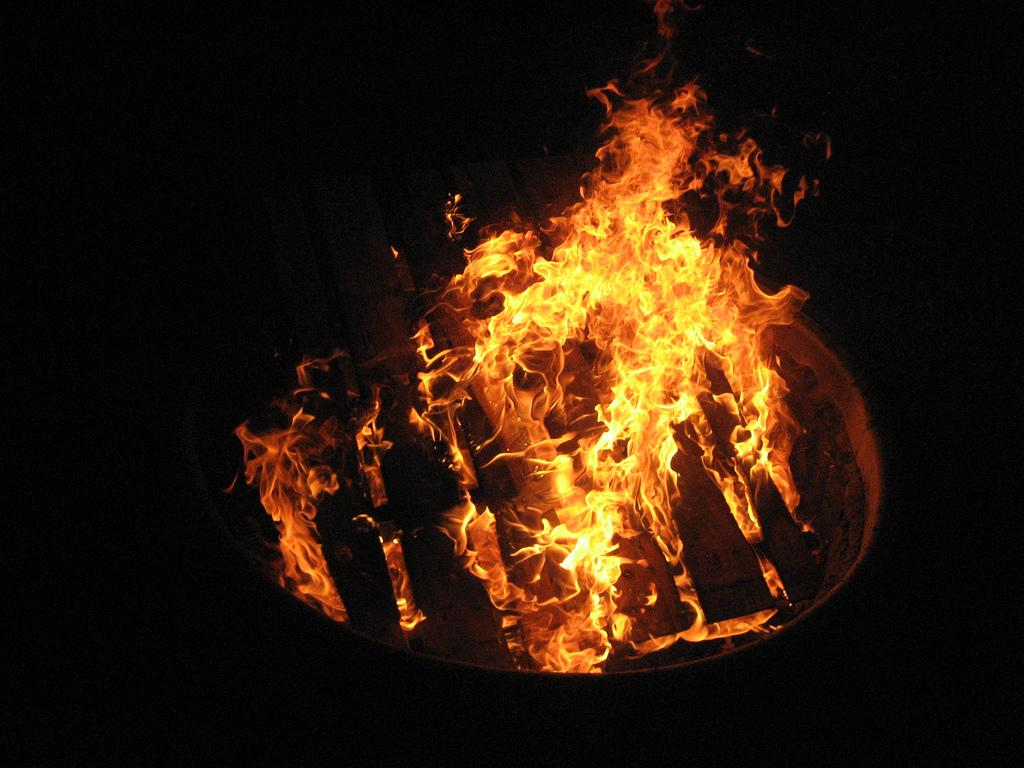fire: (558, 224, 734, 412)
